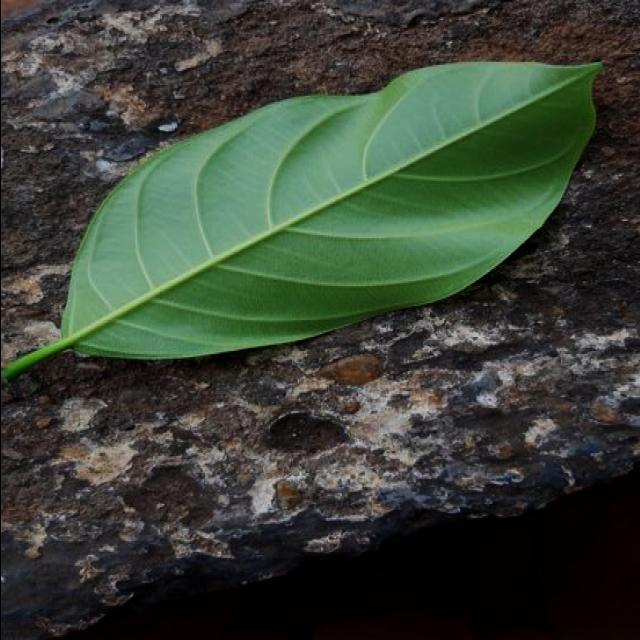leaf: (3, 57, 603, 385)
